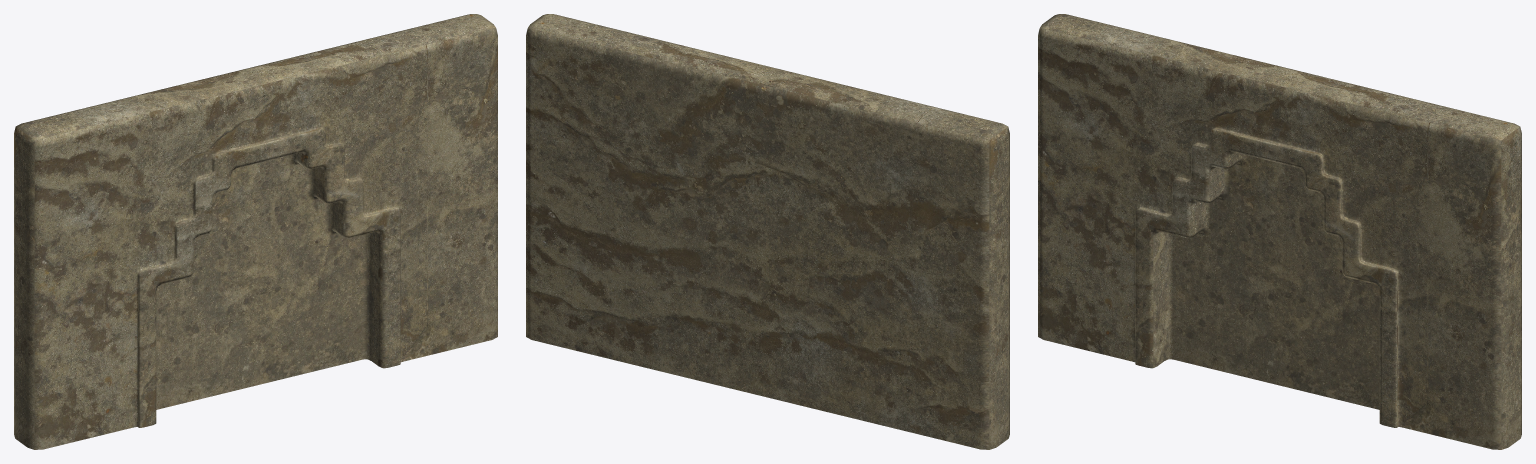
File: special_birthplace_mural.dae
3 renders of one model, left to right at view 1: azimuth 30°, elevation 25°; view 2: azimuth 150°, elevation 25°; view 3: azimuth 330°, elevation 25°, orthographic.
Visible parts, largest first — view 1: special_birthplace_mural; view 2: special_birthplace_mural; view 3: special_birthplace_mural.
Part boxes in pixels (bbox=[...]): special_birthplace_mural: bbox=[14, 14, 497, 449]; special_birthplace_mural: bbox=[526, 14, 1009, 449]; special_birthplace_mural: bbox=[1038, 14, 1521, 449].
Size of what is drawn, in the model's own units: 6.28 by 4 by 0.6133.
